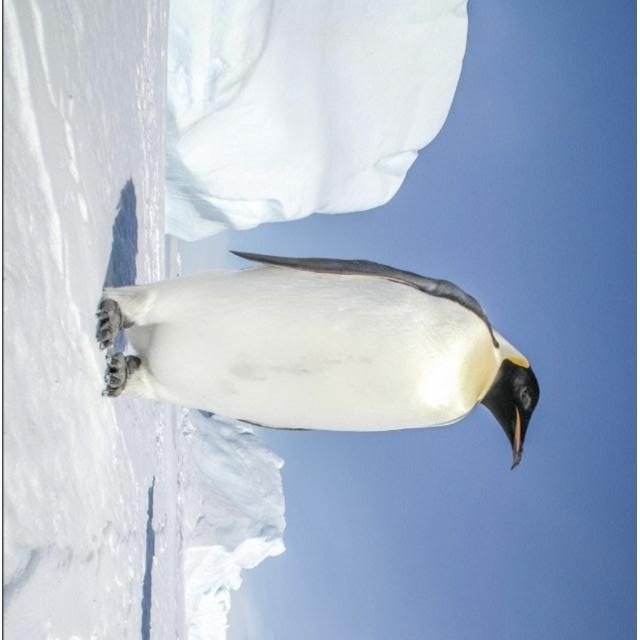penguin: (91, 250, 540, 471)
